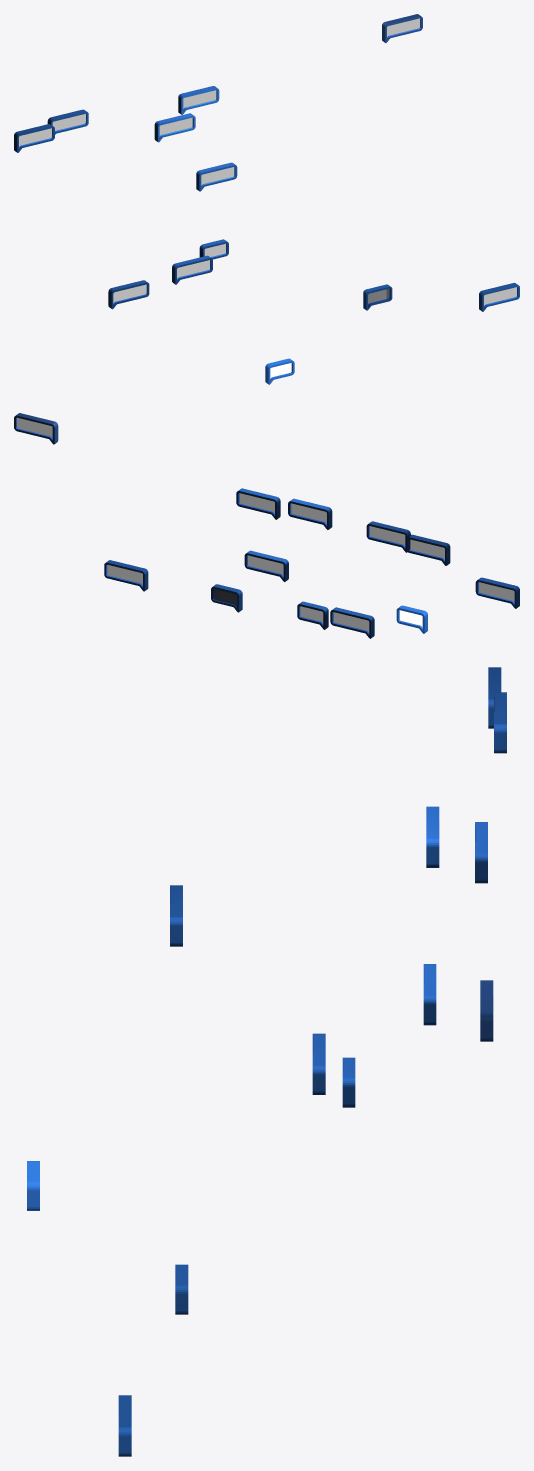
File: pop_up_share_knowledge.glb
3 renders of one model, top to bottom at view 1: azimuth 30°, elevation 25°; view 2: azimuth 150°, elevation 25°; view 3: azimuth 270°, elevation 25°, orthographic. The views are drawn at different scales.
Parts seen in each view (by area): view 1: pop_up_social_networks, pop_up_games, pop_up_travel, pop_up_development, pop_up_contact_me, pop_up_languages, pop_up_photography_right, pop_up_art, pop_up_photography_left, pop_up_running, pop_up_share_knowledge, pop_up_stereoscopy; view 2: pop_up_contact_me, pop_up_languages, pop_up_travel, pop_up_photography_right, pop_up_social_networks, pop_up_development, pop_up_games, pop_up_photography_left, pop_up_art, pop_up_share_knowledge, pop_up_stereoscopy, pop_up_running; view 3: no part large enough to name.
Boxes of the visible parts, left/top/right/bottom form: pop_up_social_networks: left=154, top=113, right=195, bottom=142; pop_up_games: left=108, top=280, right=149, bottom=309; pop_up_travel: left=178, top=86, right=219, bottom=114; pop_up_development: left=196, top=162, right=237, bottom=191; pop_up_contact_me: left=172, top=255, right=212, bottom=284; pop_up_languages: left=382, top=14, right=422, bottom=42; pop_up_photography_right: left=479, top=283, right=519, bottom=311; pop_up_art: left=14, top=124, right=54, bottom=152; pop_up_photography_left: left=47, top=109, right=88, bottom=134; pop_up_running: left=265, top=358, right=294, bottom=384; pop_up_share_knowledge: left=363, top=284, right=392, bottom=310; pop_up_stereoscopy: left=199, top=239, right=228, bottom=259; pop_up_contact_me: left=330, top=607, right=374, bottom=638; pop_up_languages: left=14, top=413, right=58, bottom=444; pop_up_travel: left=236, top=488, right=280, bottom=519; pop_up_photography_right: left=104, top=560, right=148, bottom=591; pop_up_social_networks: left=288, top=498, right=332, bottom=529; pop_up_development: left=244, top=550, right=288, bottom=581; pop_up_games: left=475, top=577, right=519, bottom=608; pop_up_photography_left: left=366, top=521, right=410, bottom=552; pop_up_art: left=408, top=534, right=450, bottom=565; pop_up_share_knowledge: left=211, top=584, right=242, bottom=612; pop_up_stereoscopy: left=297, top=601, right=328, bottom=629; pop_up_running: left=396, top=605, right=427, bottom=633.
Bounding box in the file's own units: 35.1 × 18.2 × 17.78.
Materials: 12 (12 with a texture image).
